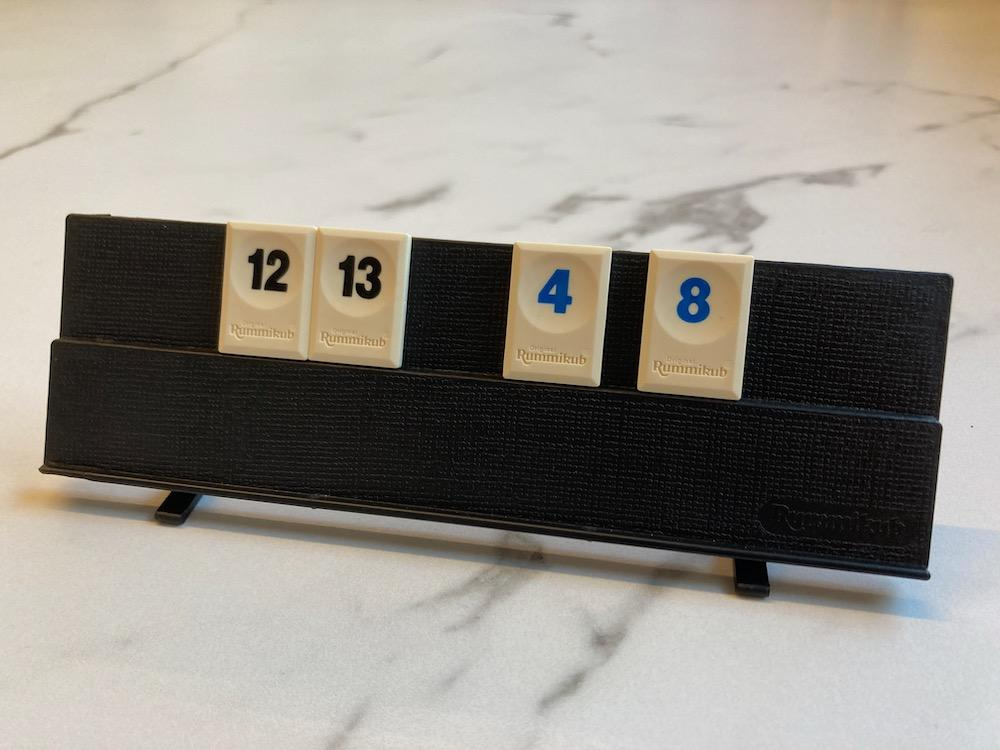black_12: (219, 221, 316, 359)
black_13: (309, 227, 410, 367)
blue_4: (502, 242, 611, 387)
blue_8: (639, 250, 754, 400)
